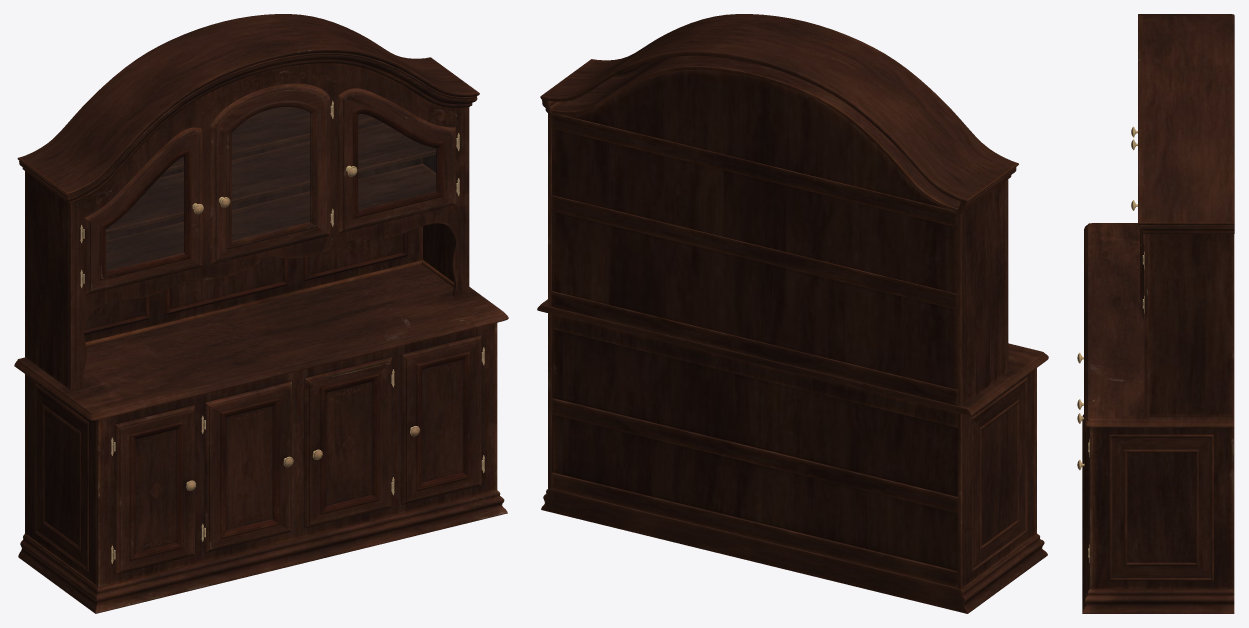
Rendered from vintage_cabinet_01_1k.glb.
3 views of the same model, side by side, from view 1: azimuth 30°, elevation 25°; view 2: azimuth 150°, elevation 25°; view 3: azimuth 270°, elevation 25° (orthographic). The views are drawn at different scales.
Visible parts, largest first — view 1: vintage_cabinet_01_body, vintage_cabinet_01_door_03, vintage_cabinet_01_door_01, vintage_cabinet_01_door_04, vintage_cabinet_01_door_07, vintage_cabinet_01_door_06, vintage_cabinet_01_door_02, vintage_cabinet_01_door_05; view 2: vintage_cabinet_01_body; view 3: vintage_cabinet_01_body, vintage_cabinet_01_door_02, vintage_cabinet_01_door_04.
Boxes of the visible parts, x1=… form: vintage_cabinet_01_body: x1=14, y1=14, x2=508, y2=613; vintage_cabinet_01_door_03: x1=210, y1=83, x2=332, y2=264; vintage_cabinet_01_door_01: x1=83, y1=127, x2=203, y2=295; vintage_cabinet_01_door_04: x1=338, y1=88, x2=458, y2=233; vintage_cabinet_01_door_07: x1=304, y1=357, x2=392, y2=528; vintage_cabinet_01_door_06: x1=204, y1=381, x2=293, y2=552; vintage_cabinet_01_door_02: x1=401, y1=335, x2=483, y2=504; vintage_cabinet_01_door_05: x1=113, y1=405, x2=195, y2=574; vintage_cabinet_01_body: x1=537, y1=14, x2=1048, y2=613; vintage_cabinet_01_body: x1=1082, y1=14, x2=1234, y2=613; vintage_cabinet_01_door_02: x1=1077, y1=426, x2=1089, y2=572; vintage_cabinet_01_door_04: x1=1131, y1=200, x2=1144, y2=319.
Bounding box in the file's own units: 2.02 × 2.24 × 0.6698.
3 materials, 2 textured.
